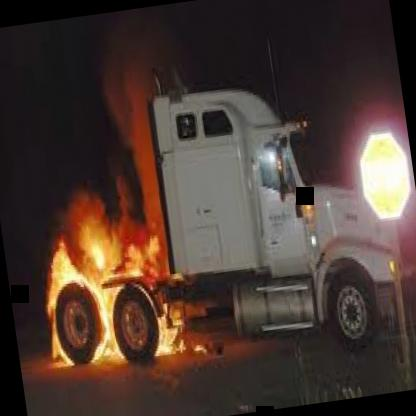fire: (26, 8, 213, 380)
